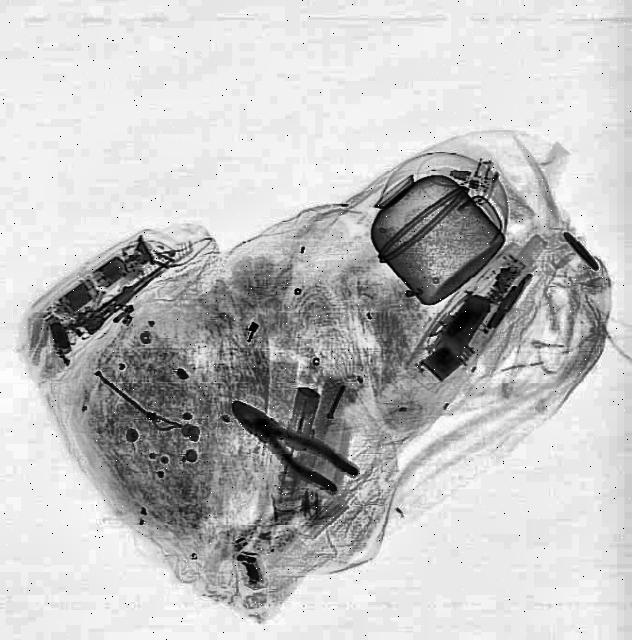Pliers: (221, 393, 363, 503)
